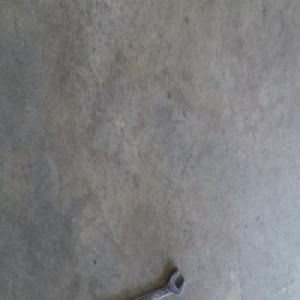Wrench: (136, 267, 186, 299)
